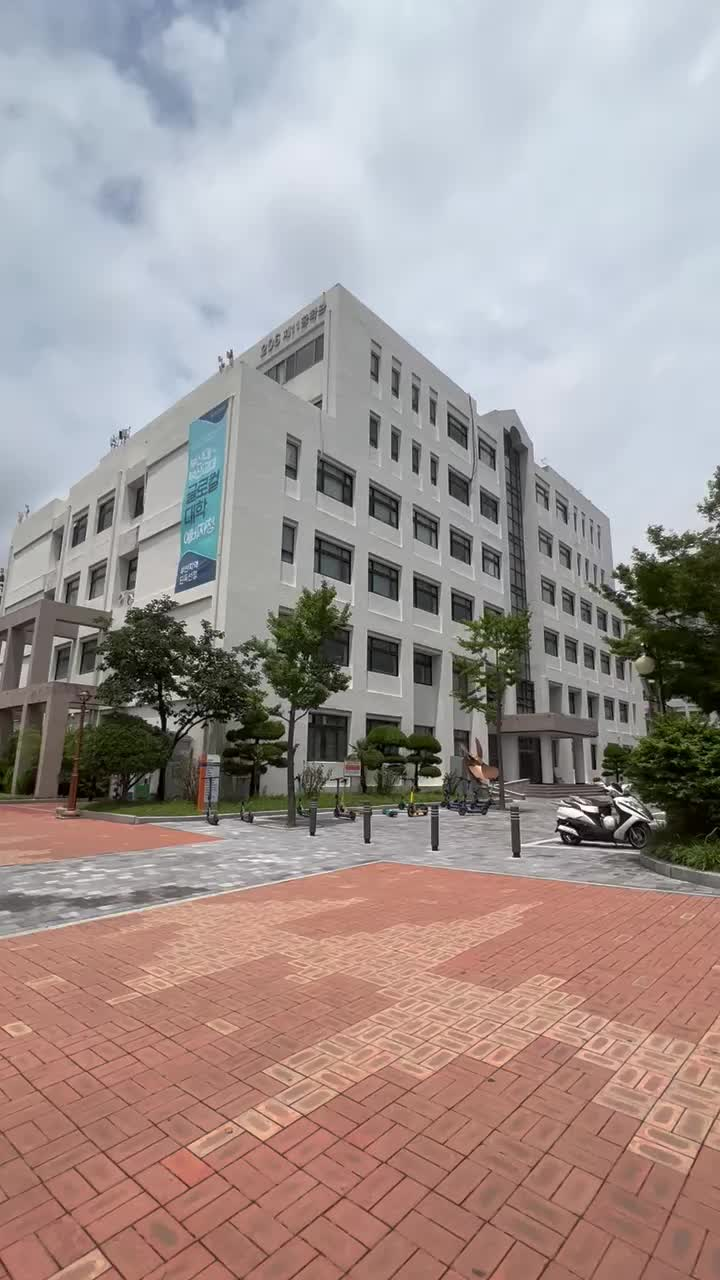low: (220, 300, 604, 612)
